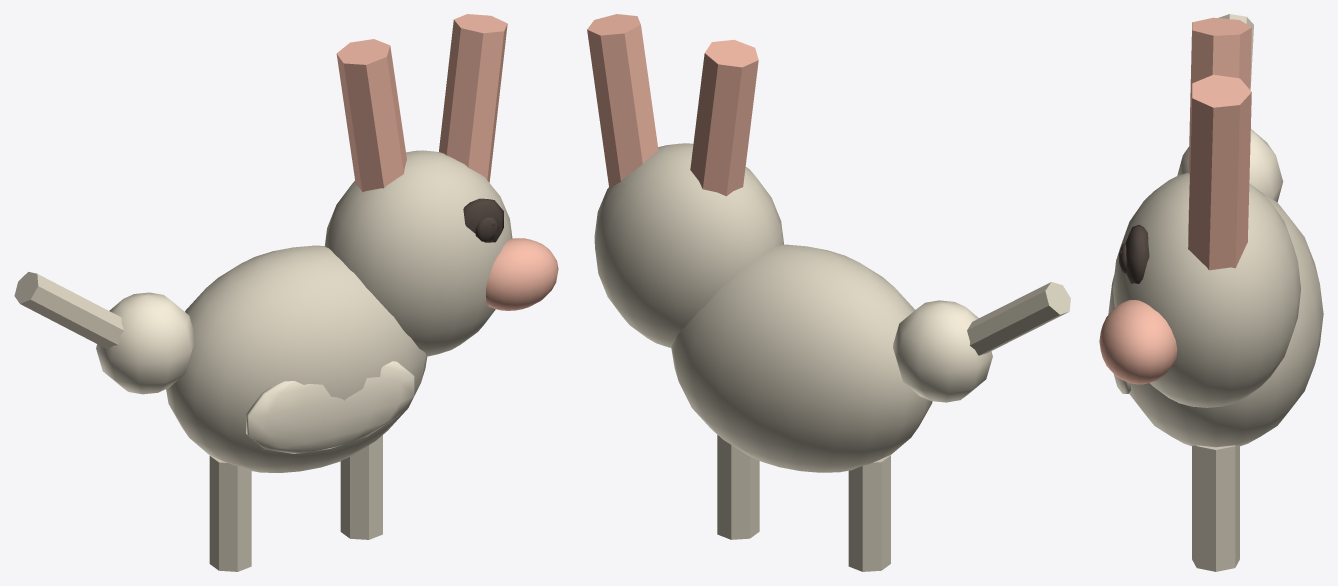
Rendered from rabbit.glb.
The picture shows the model from 3 angles, left to right: view 1: azimuth 30°, elevation 25°; view 2: azimuth 150°, elevation 25°; view 3: azimuth 270°, elevation 25°; orthographic projection. The views are drawn at different scales.
Parts seen in each view (by area): view 1: body, head, belly, ear_r, ear_l, tail_ball, leg_0, snout, tail, leg_1, eye_socket; view 2: body, head, ear_r, ear_l, tail_ball, leg_0, leg_1, tail; view 3: head, ear_r, body, leg_1, snout, ear_l, tail_ball, eye_socket, tail.
Part boxes in pixels (x1,y1,x2,y2): body: [166, 245, 427, 472]; head: [325, 150, 512, 356]; belly: [246, 361, 414, 453]; ear_r: [439, 14, 507, 182]; ear_l: [336, 39, 406, 192]; tail_ball: [96, 292, 194, 394]; leg_0: [209, 455, 251, 571]; snout: [486, 238, 558, 310]; tail: [14, 272, 123, 349]; leg_1: [340, 435, 382, 539]; eye_socket: [463, 198, 503, 242]; body: [671, 244, 932, 472]; head: [594, 143, 783, 347]; ear_r: [587, 14, 658, 188]; ear_l: [690, 39, 758, 196]; tail_ball: [893, 300, 992, 402]; leg_0: [848, 455, 890, 571]; leg_1: [717, 435, 759, 539]; tail: [967, 282, 1070, 355]; head: [1113, 172, 1301, 407]; ear_r: [1188, 74, 1251, 270]; body: [1108, 192, 1323, 447]; leg_1: [1192, 445, 1239, 571]; snout: [1099, 300, 1177, 384]; ear_l: [1188, 17, 1251, 173]; tail_ball: [1177, 129, 1283, 202]; eye_socket: [1125, 225, 1149, 283]; tail: [1218, 14, 1253, 89].
Size of the model in its own units: 0.6475 by 0.5995 by 0.2255.
